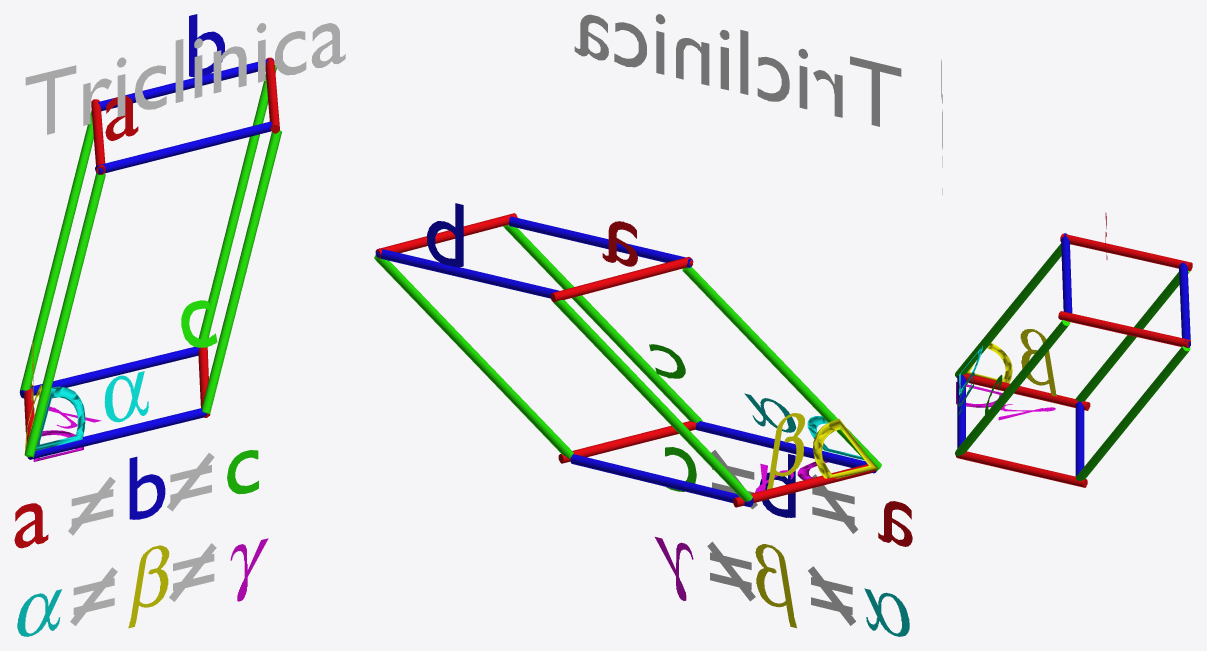
File: triclinica.obj.glb
3 views of the same model, side by side, from view 1: azimuth 30°, elevation 25°; view 2: azimuth 150°, elevation 25°; view 3: azimuth 270°, elevation 25° (orthographic). The views are drawn at different scales.
Visible parts, largest first — view 1: Text.134_Text.119, Cylinder.096_Cylinder.120, Cylinder.093_Cylinder.117, Cylinder.091_Cylinder.115, Cylinder.095_Cylinder.119, Cylinder.086_Cylinder.110, Cylinder.085_Cylinder.109, Cylinder.089_Cylinder.113, Text.095_Text.100, Cylinder.090_Cylinder.114, Text.102_Text.107, Sphere.051_Sphere.104 (+18 smaller); view 2: Text.134_Text.119, Cylinder.091_Cylinder.115, Cylinder.095_Cylinder.119, Cylinder.096_Cylinder.120, Cylinder.093_Cylinder.117, Cylinder.090_Cylinder.114, Cylinder.089_Cylinder.113, Cylinder.086_Cylinder.110, Cylinder.085_Cylinder.109, Cylinder.094_Cylinder.118, Sphere.056_Sphere.105, Cylinder.087_Cylinder.111 (+9 smaller); view 3: Cylinder.096_Cylinder.120, Cylinder.095_Cylinder.119, Cylinder.093_Cylinder.117, Cylinder.091_Cylinder.115, Cylinder.088_Cylinder.112, Cylinder.087_Cylinder.111, Cylinder.094_Cylinder.118, Cylinder.092_Cylinder.116, Cylinder.090_Cylinder.114, Text.070_Text.071, Cylinder.086_Cylinder.110, Cylinder.089_Cylinder.113 (+2 smaller).
Part boxes in pixels (<box>): Text.134_Text.119: <box>25,23,345,134</box>; Cylinder.096_Cylinder.120: <box>201,130,281,414</box>; Cylinder.093_Cylinder.117: <box>24,173,105,457</box>; Cylinder.091_Cylinder.115: <box>20,110,93,390</box>; Cylinder.095_Cylinder.119: <box>198,65,276,339</box>; Cylinder.086_Cylinder.110: <box>95,121,272,174</box>; Cylinder.085_Cylinder.109: <box>27,408,206,459</box>; Cylinder.089_Cylinder.113: <box>19,346,198,398</box>; Text.095_Text.100: <box>129,456,165,519</box>; Cylinder.090_Cylinder.114: <box>98,58,273,111</box>; Text.102_Text.107: <box>128,545,169,628</box>; Sphere.051_Sphere.104: <box>35,386,85,450</box>; Text.134_Text.119: <box>574,14,901,126</box>; Cylinder.091_Cylinder.115: <box>554,300,752,501</box>; Cylinder.095_Cylinder.119: <box>374,255,573,458</box>; Cylinder.096_Cylinder.120: <box>503,224,702,422</box>; Cylinder.093_Cylinder.117: <box>682,267,881,471</box>; Cylinder.090_Cylinder.114: <box>376,248,559,298</box>; Cylinder.089_Cylinder.113: <box>570,454,753,507</box>; Cylinder.086_Cylinder.110: <box>509,216,693,267</box>; Cylinder.085_Cylinder.109: <box>695,421,876,473</box>; Cylinder.094_Cylinder.118: <box>550,257,692,302</box>; Sphere.056_Sphere.105: <box>813,418,877,478</box>; Cylinder.087_Cylinder.111: <box>558,421,696,463</box>; Cylinder.096_Cylinder.120: <box>955,320,1070,456</box>; Cylinder.095_Cylinder.119: <box>1076,346,1190,480</box>; Cylinder.093_Cylinder.117: <box>955,243,1070,377</box>; Cylinder.091_Cylinder.115: <box>1075,271,1189,401</box>; Cylinder.088_Cylinder.112: <box>1058,311,1190,348</box>; Cylinder.087_Cylinder.111: <box>956,451,1087,487</box>; Cylinder.094_Cylinder.118: <box>1060,233,1192,271</box>; Cylinder.092_Cylinder.116: <box>963,373,1090,410</box>; Cylinder.090_Cylinder.114: <box>1179,262,1190,347</box>; Text.070_Text.071: <box>1020,329,1057,403</box>; Cylinder.086_Cylinder.110: <box>1061,233,1072,313</box>; Cylinder.089_Cylinder.113: <box>1075,401,1084,476</box>.
Bounding box in the file's own units: 1.54 × 2.14 × 0.924.
